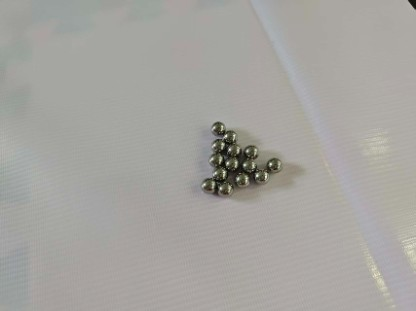ironball: (217, 181, 233, 196), (253, 168, 268, 183), (212, 165, 227, 180), (234, 172, 249, 186), (243, 144, 258, 157), (200, 178, 214, 191), (267, 157, 281, 170), (208, 151, 222, 164), (210, 120, 223, 134), (223, 129, 236, 143), (226, 144, 241, 156), (211, 138, 223, 152), (243, 159, 256, 170), (225, 158, 238, 168)
